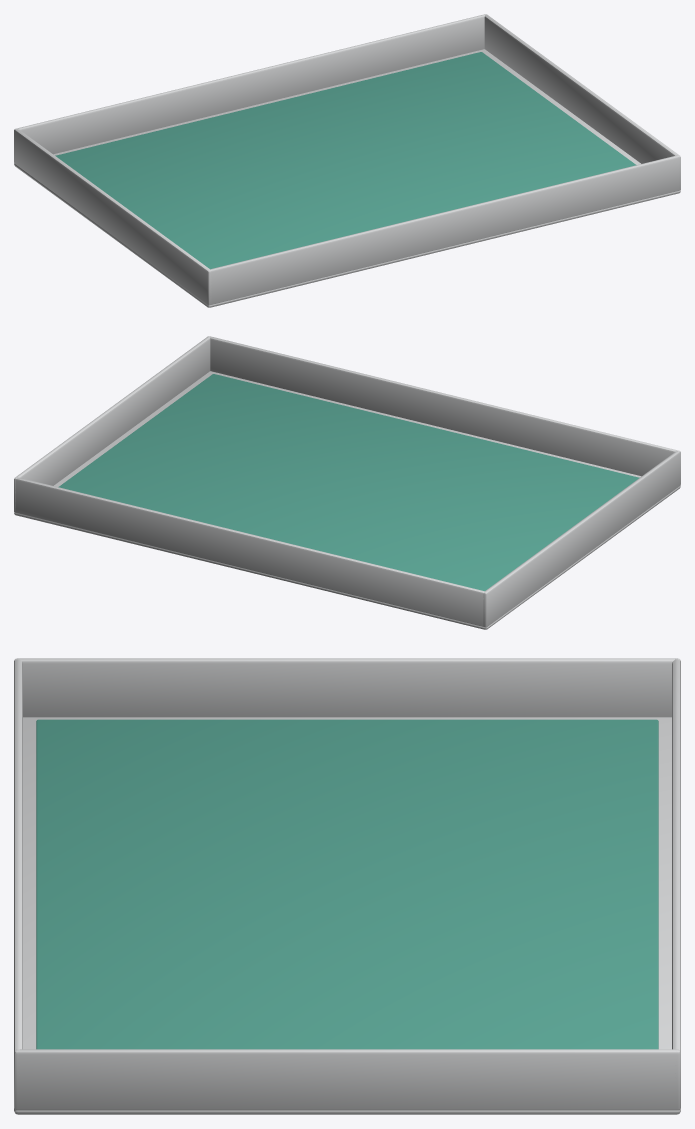
The model's file is ND_DeliveryTray.fbx.
3 renders of one model, top to bottom at view 1: azimuth 30°, elevation 25°; view 2: azimuth 150°, elevation 25°; view 3: azimuth 270°, elevation 25°, orthographic. The views are drawn at different scales.
Visible parts, largest first — view 1: ND_DeliveryTray_Mesh; view 2: ND_DeliveryTray_Mesh; view 3: ND_DeliveryTray_Mesh.
Boxes of the visible parts, left/top/right/bottom form: ND_DeliveryTray_Mesh: left=14, top=14, right=680, bottom=307; ND_DeliveryTray_Mesh: left=14, top=336, right=680, bottom=629; ND_DeliveryTray_Mesh: left=14, top=658, right=680, bottom=1114.
Size of the model in its own units: 0.42 by 0.032 by 0.3.
